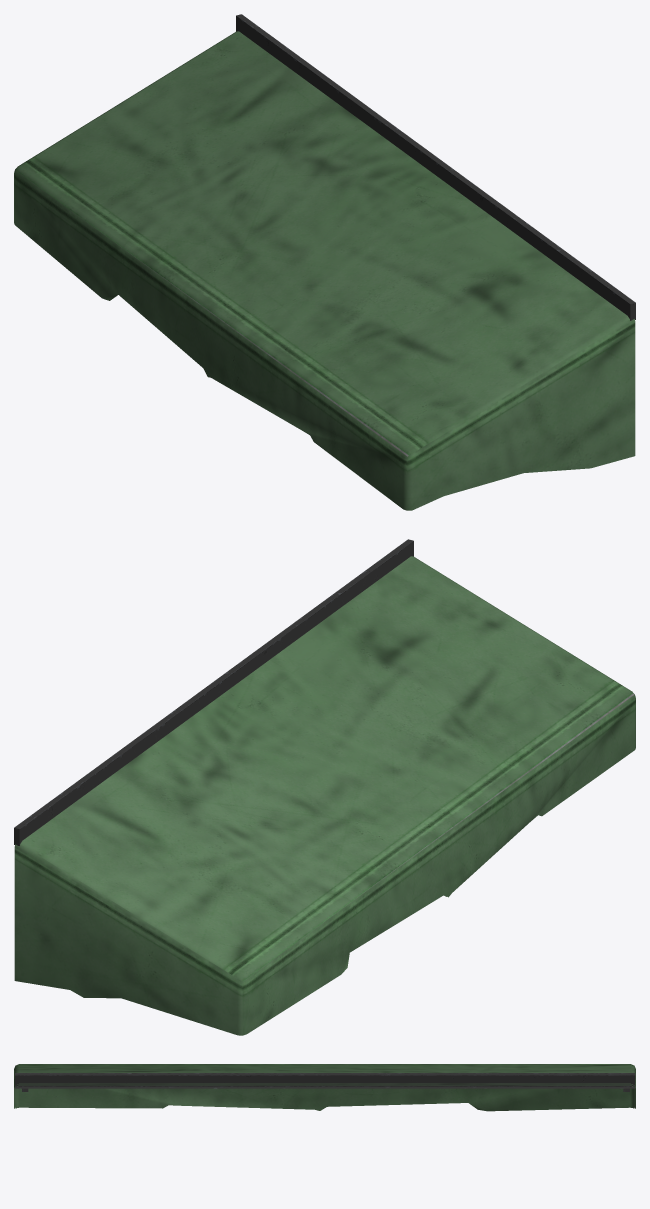
Rendered from CP_Canopy_02.fbx.
3 renders of one model, top to bottom at view 1: azimuth 30°, elevation 25°; view 2: azimuth 150°, elevation 25°; view 3: azimuth 270°, elevation 25°, orthographic. The views are drawn at different scales.
Parts seen in each view (by area): view 1: CP_Canopy_02; view 2: CP_Canopy_02; view 3: CP_Canopy_02.
Part boxes in pixels (x1,y1,x2,y2): CP_Canopy_02: [14, 14, 635, 510]; CP_Canopy_02: [14, 539, 635, 1035]; CP_Canopy_02: [14, 1064, 635, 1111].
Bounding box in the file's own units: 131 × 84.75 × 382.
